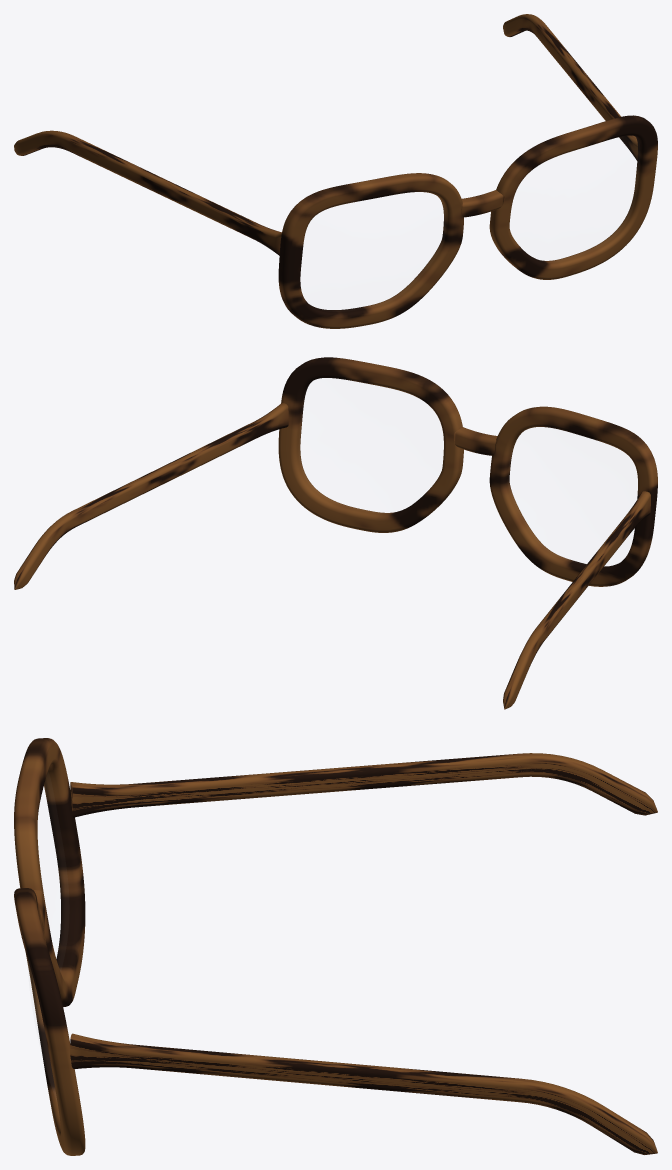
File: dframe-havana.glb
3 renders of one model, top to bottom at view 1: azimuth 30°, elevation 25°; view 2: azimuth 150°, elevation 25°; view 3: azimuth 270°, elevation 25°, orthographic. The views are drawn at different scales.
Parts seen in each view (by area): view 1: glasses; view 2: glasses; view 3: glasses.
Part boxes in pixels (x1,y1,x2,y2): glasses: (14, 14, 657, 328); glasses: (14, 357, 657, 709); glasses: (14, 738, 657, 1155).
Bounding box in the file's own units: 0.1759 × 0.0518 × 0.1384.
2 materials, 1 textured.
